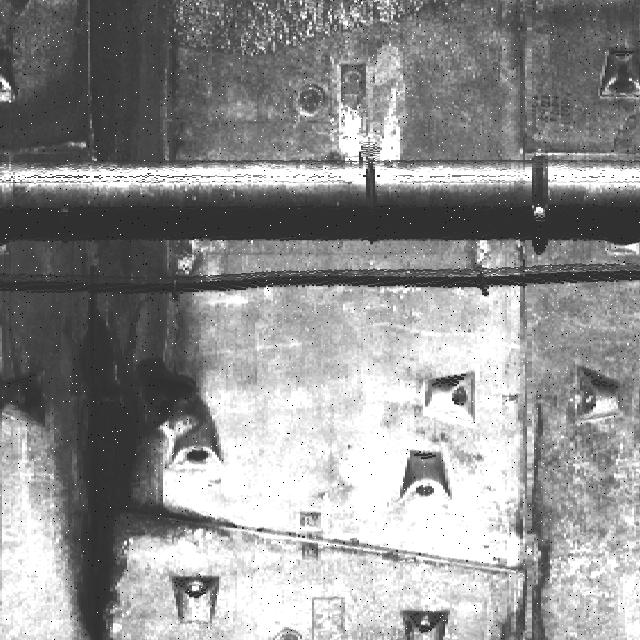leakage: (0, 242, 223, 640), (7, 1, 193, 177)
